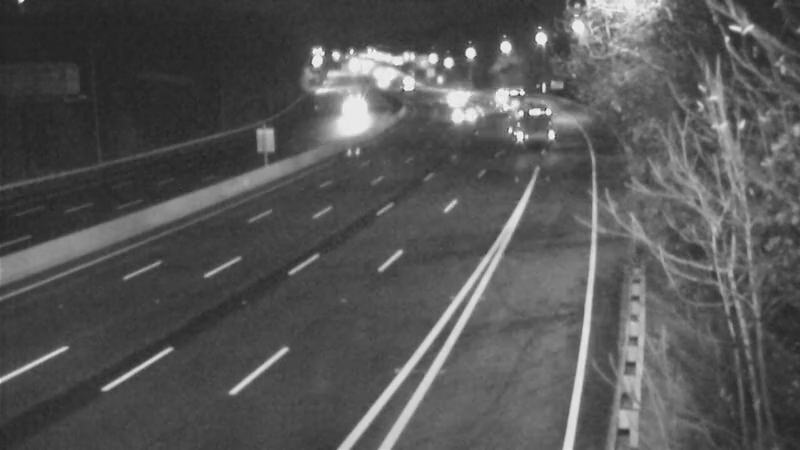vehicle: (375, 56, 425, 106), (477, 69, 527, 119), (432, 75, 482, 125), (441, 90, 491, 140), (507, 100, 557, 150), (328, 87, 378, 137)
